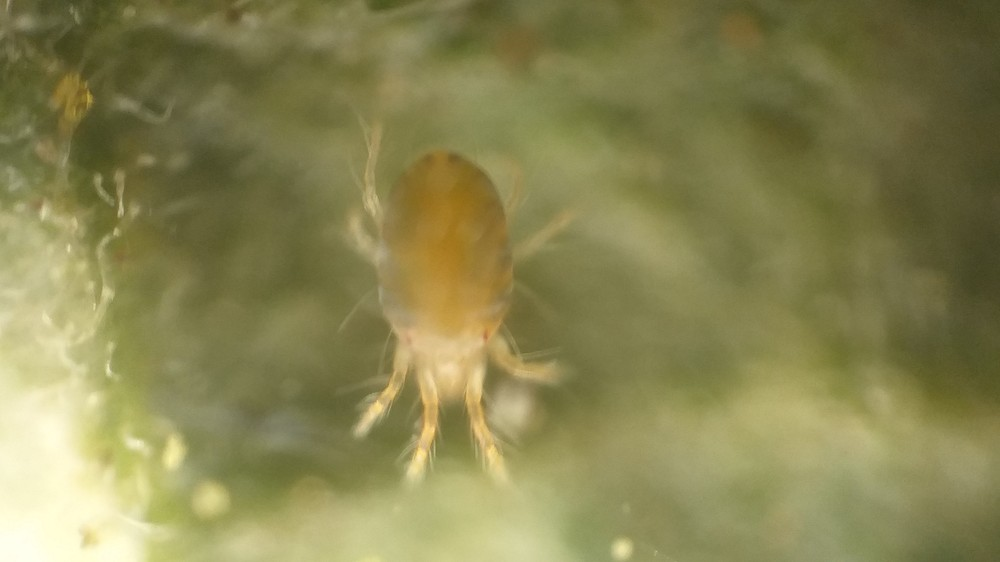Aracnido Rojo: (274, 105, 619, 522)
